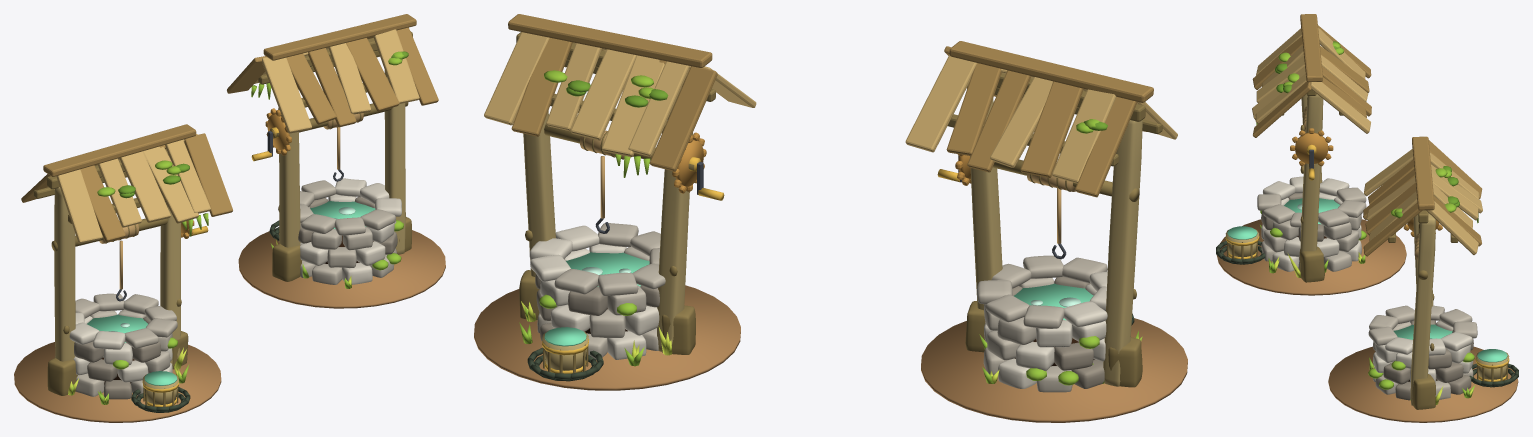
Rendered from puits2.glb.
3 renders of one model, left to right at view 1: azimuth 30°, elevation 25°; view 2: azimuth 150°, elevation 25°; view 3: azimuth 270°, elevation 25°, orthographic. The views are drawn at different scales.
Visible parts, largest first — view 1: planche_toit.001, terre_battue.001, planche_toit.002, terre_battue, poteau, planche_toit.003, poteau.002, planche_toit, margelle, pierre.003, margelle.002, faitiere (+20 smaller); view 2: planche_toit.003, terre_battue, planche_toit, terre_battue.001, poteau, planche_toit.001, poteau.002, planche_toit.002, margelle, margelle.002, faitiere, faitiere.001 (+21 smaller); view 3: terre_battue.001, terre_battue, planche_toit.001, planche_toit.003, planche_toit.002, planche_toit, poteau.002, poteau, margelle, pierre, margelle.002, pierre.005 (+20 smaller).
Part boxes in pixels (x1,y1,x2,y2): planche_toit.001: (56,134,210,243); terre_battue.001: (238,229,445,308); planche_toit.002: (227,27,438,127); terre_battue: (14,342,221,422); poteau: (54,187,181,364); planche_toit.003: (254,29,419,133); poteau.002: (278,70,405,254); planche_toit: (21,133,232,241); margelle: (75,293,177,348); pierre.003: (300,207,394,284); margelle.002: (300,180,395,235); faitiere: (43,124,196,176); planche_toit.003: (484,32,756,157); terre_battue: (921,318,1187,422); planche_toit: (944,46,1146,197); terre_battue.001: (474,285,740,390); poteau: (967,84,1142,386); planche_toit.001: (905,54,1177,183); poteau.002: (523,88,692,351); planche_toit.002: (511,38,717,171); margelle: (976,255,1107,328); margelle.002: (554,223,665,295); faitiere: (949,41,1153,102); faitiere.001: (508,14,712,67); terre_battue.001: (1328,346,1518,422); terre_battue: (1216,219,1406,295); planche_toit.001: (1252,28,1370,133); planche_toit.003: (1364,149,1482,254); planche_toit.002: (1363,140,1482,256); planche_toit: (1252,25,1371,137); poteau.002: (1410,213,1435,405); poteau: (1300,94,1323,272); margelle: (1257,187,1366,227); pierre: (1261,214,1361,271); margelle.002: (1368,305,1477,345); pierre.005: (1383,320,1473,400).
Bounding box in the file's own units: 4.4 × 2.11 × 2.71.
